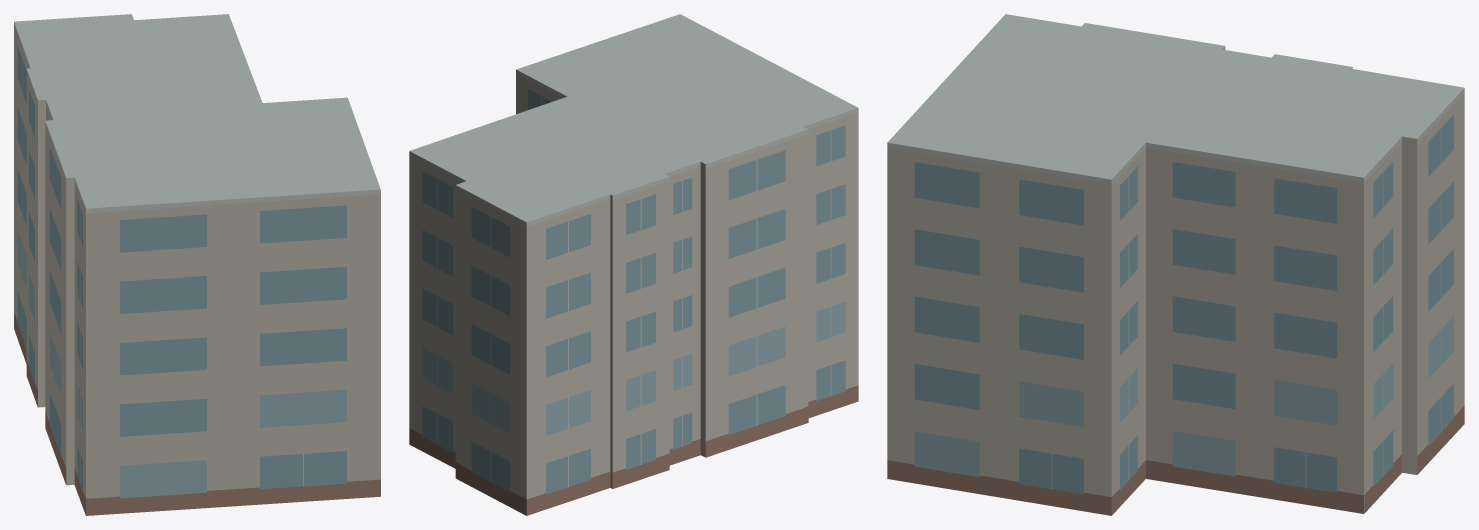
File: survey-upis-32578154.glb
3 views of the same model, side by side, from view 1: azimuth 30°, elevation 25°; view 2: azimuth 150°, elevation 25°; view 3: azimuth 270°, elevation 25° (orthographic). The views are drawn at different scales.
Parts seen in each view (by area): view 1: survey-upis-32578154.tmp; view 2: survey-upis-32578154.tmp; view 3: survey-upis-32578154.tmp.
Boxes of the visible parts, x1,y1,x2,y2 form: survey-upis-32578154.tmp: (14,14,380,515); survey-upis-32578154.tmp: (409,14,858,515); survey-upis-32578154.tmp: (887,14,1464,515).
Bounding box in the file's own units: 16.97 × 16.05 × 24.99.
